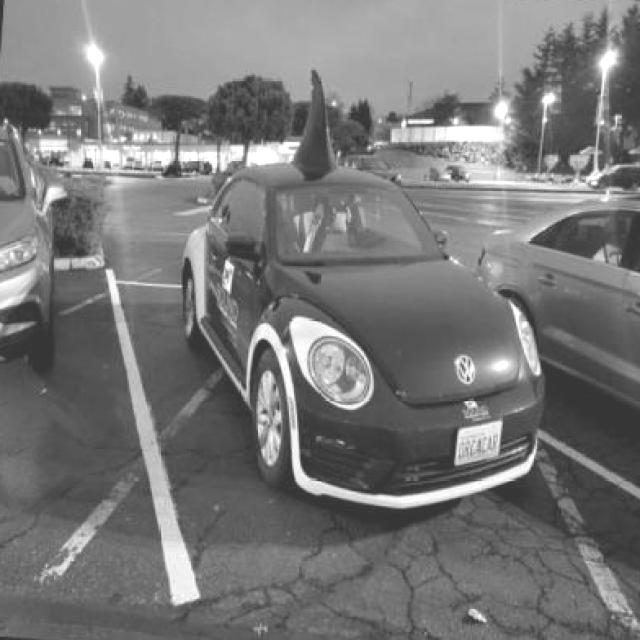licenseplate: (444, 415, 510, 465)
